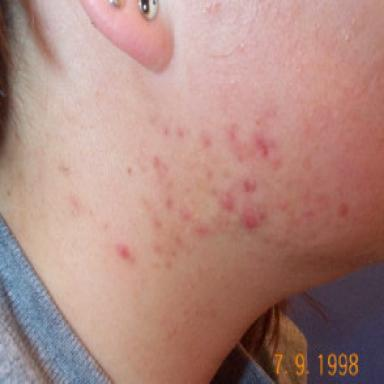acne: (229, 126, 276, 158), (241, 209, 267, 228), (220, 192, 234, 211), (116, 243, 131, 260), (244, 180, 257, 193), (180, 208, 193, 221), (195, 225, 209, 234), (278, 201, 287, 211), (203, 137, 211, 147), (177, 128, 185, 137), (154, 157, 160, 169), (167, 199, 173, 208), (164, 128, 169, 136), (155, 221, 161, 227)
